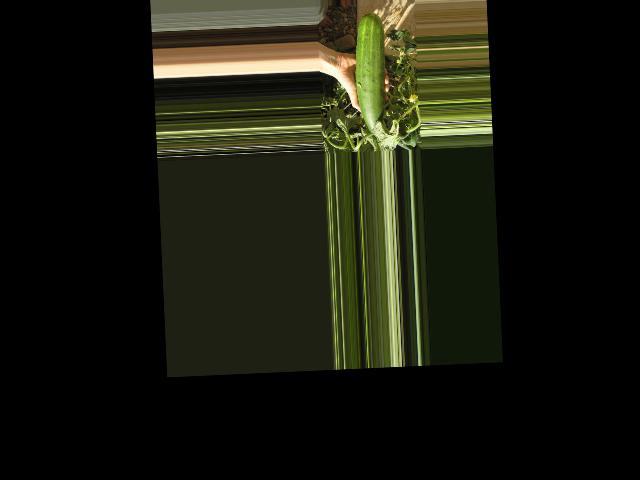cucumber: (352, 11, 388, 135)
